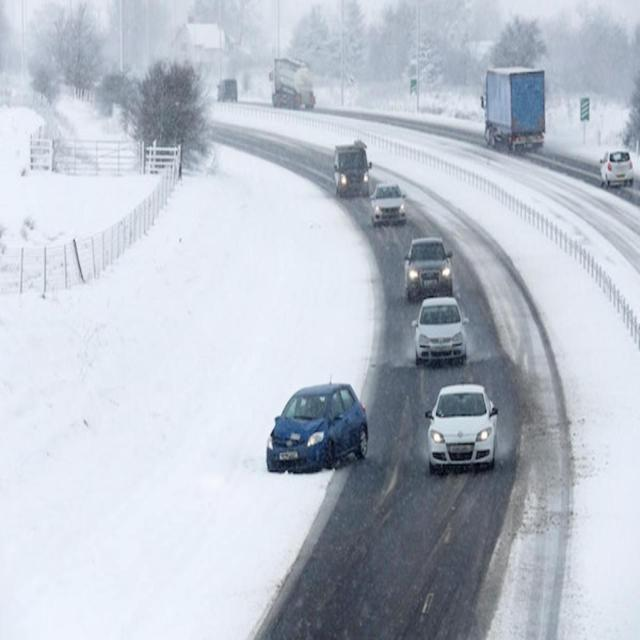Car: (266, 379, 371, 474), (422, 388, 498, 470), (410, 296, 468, 364), (404, 236, 454, 300), (598, 146, 636, 188), (372, 183, 407, 227)
Truck: (480, 65, 547, 155), (267, 55, 316, 112)
Van: (333, 144, 373, 200), (215, 76, 238, 102)
